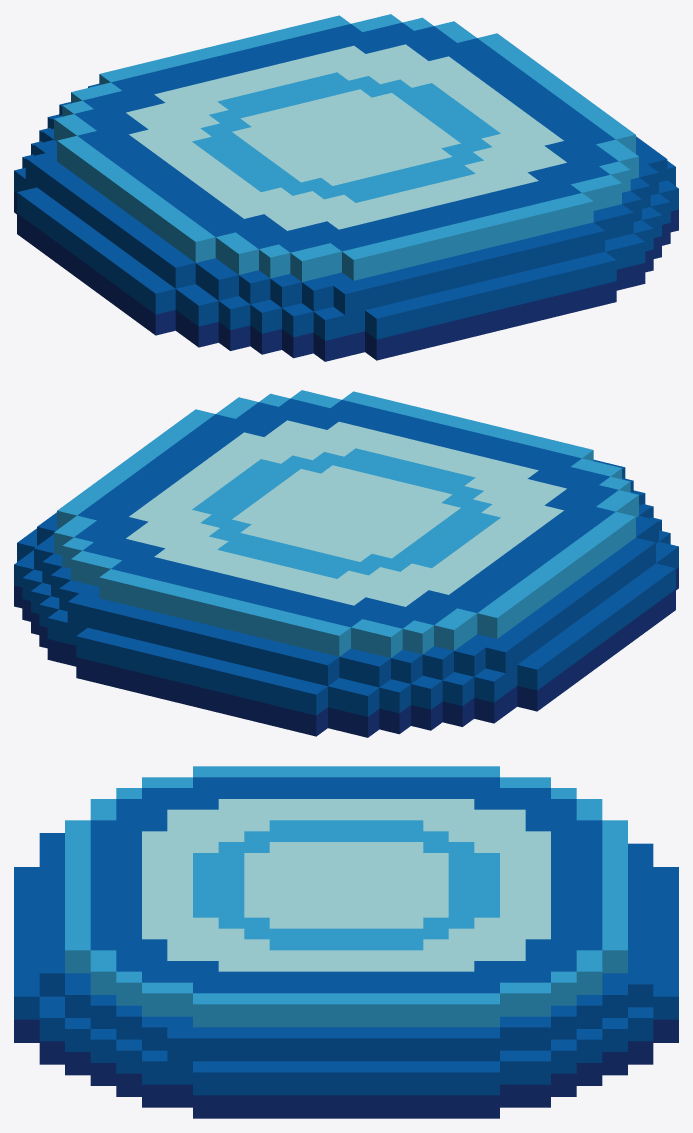
Rendered from Teleporter_Blue.fbx.
3 renders of one model, top to bottom at view 1: azimuth 30°, elevation 25°; view 2: azimuth 150°, elevation 25°; view 3: azimuth 270°, elevation 25°, orthographic. The views are drawn at different scales.
Visible parts, largest first — view 1: Teleporter_Blue; view 2: Teleporter_Blue; view 3: Teleporter_Blue.
Boxes of the visible parts, left/top/right/bottom form: Teleporter_Blue: left=14, top=14, right=678, bottom=361; Teleporter_Blue: left=14, top=390, right=678, bottom=737; Teleporter_Blue: left=14, top=766, right=678, bottom=1118.
Size of the model in its own units: 2.6 by 0.4 by 2.6.
Materials: 1 (1 with a texture image).
